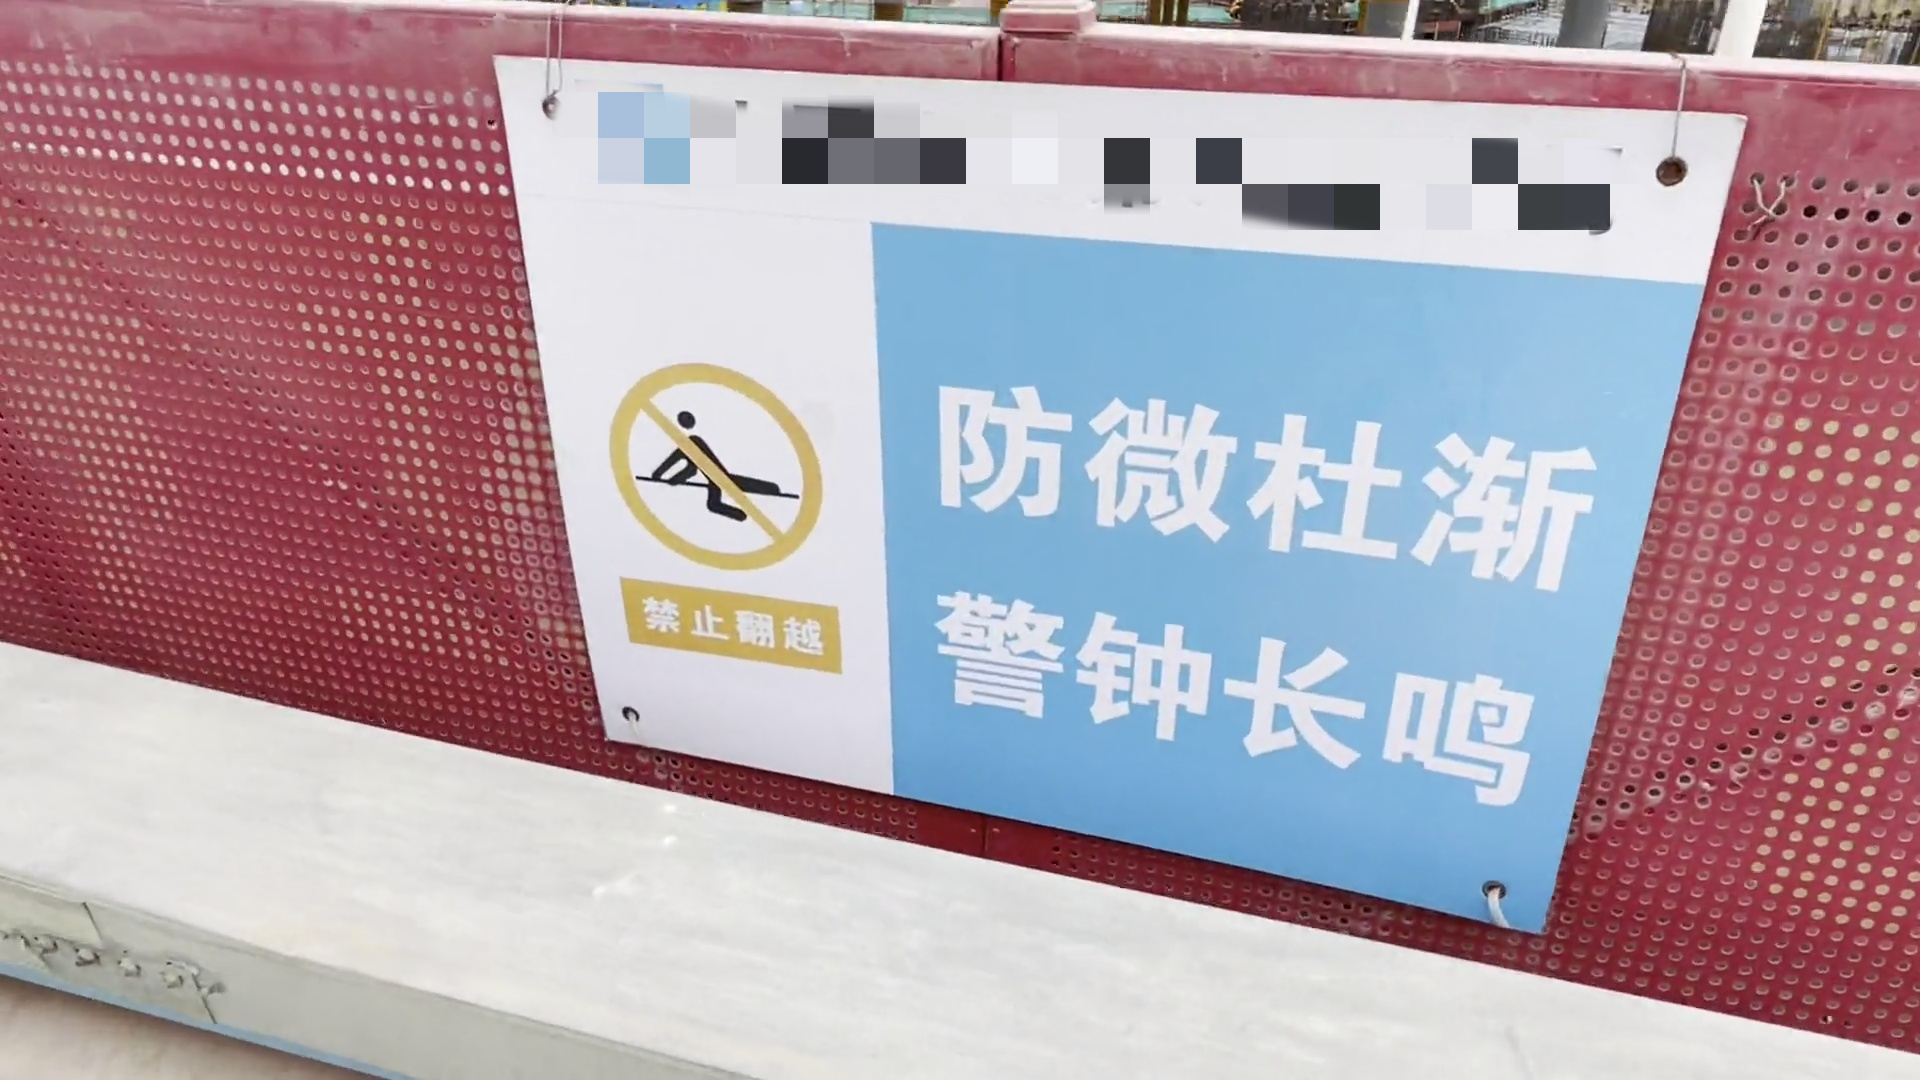slogan: (477, 33, 1648, 942)
